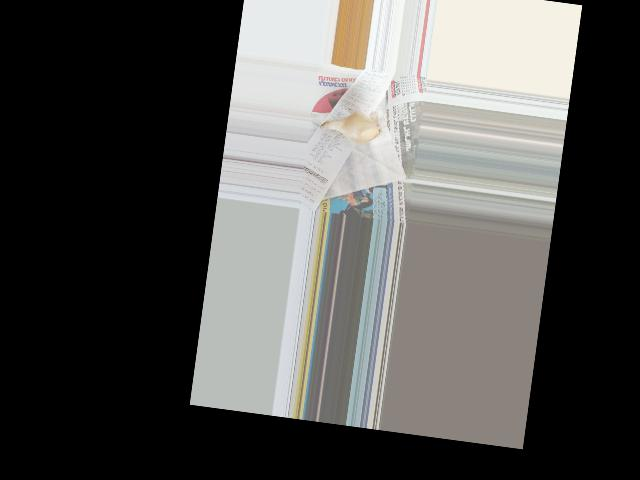onion: (334, 111, 380, 147)
